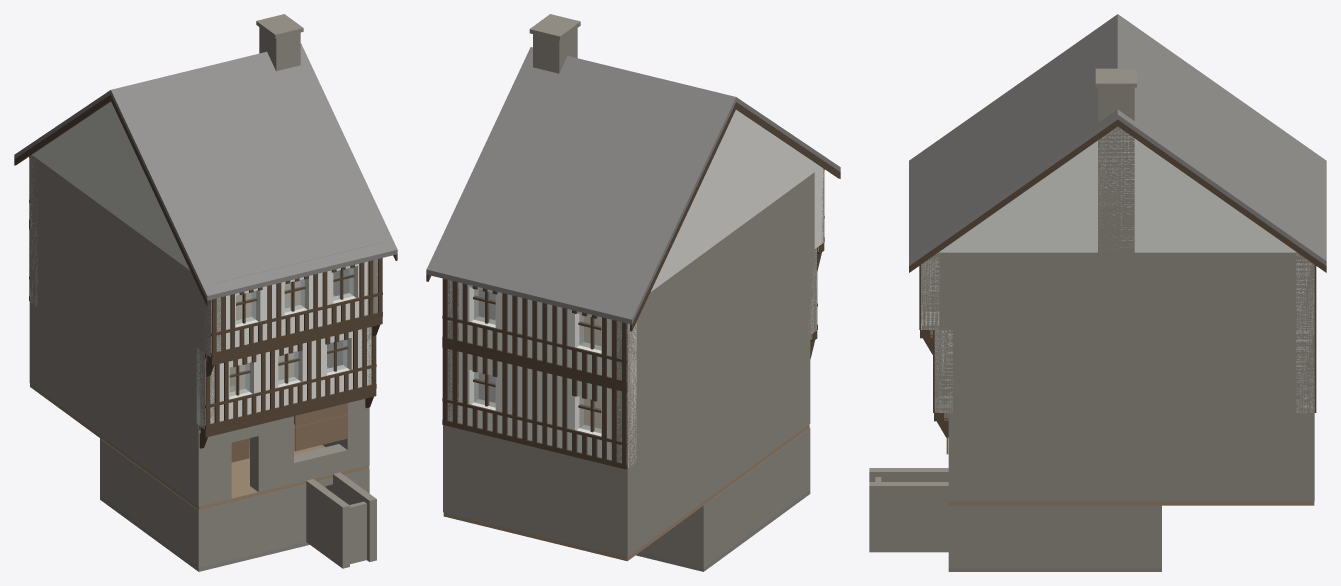
The model's file is merchant-b.glb.
The picture shows the model from 3 angles, left to right: view 1: azimuth 30°, elevation 25°; view 2: azimuth 150°, elevation 25°; view 3: azimuth 270°, elevation 25°; orthographic projection. The views are drawn at different scales.
Visible parts, largest first — view 1: stone, roof, render, timber, floor, glass, merchant-b-shutter-02 leaf, flags, merchant-b-shutter-01 leaf; view 2: stone, roof, render, timber, floor, glass, flags; view 3: stone, roof, render, timber, floor, flags.
Boxes of the visible parts, <box> form: stone: <box>29,14,377,568</box>; roof: <box>14,43,397,300</box>; render: <box>30,102,377,428</box>; timber: <box>14,94,397,448</box>; floor: <box>30,280,369,510</box>; glass: <box>229,268,353,396</box>; merchant-b-shutter-02 leaf: <box>294,414,347,451</box>; flags: <box>100,496,309,571</box>; merchant-b-shutter-01 leaf: <box>294,403,347,427</box>; stone: <box>443,14,823,567</box>; roof: <box>426,47,840,324</box>; render: <box>448,110,823,468</box>; timber: <box>426,102,840,469</box>; floor: <box>443,246,818,561</box>; glass: <box>474,289,601,433</box>; flags: <box>636,490,810,571</box>; stone: <box>869,68,1314,567</box>; roof: <box>909,14,1326,265</box>; render: <box>921,127,1314,412</box>; timber: <box>909,119,1326,437</box>; floor: <box>930,330,1314,505</box>; flags: <box>948,568,1161,571</box>.
Bounding box in the file's own units: 7.8 × 17.7 × 15.
